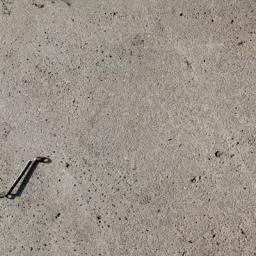FOD: (1, 153, 53, 207)
